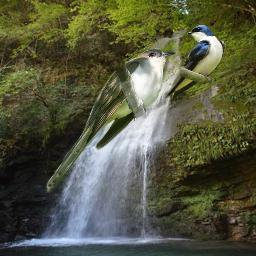Cuckoo: (44, 47, 176, 195)
Swallow: (165, 24, 227, 100)
